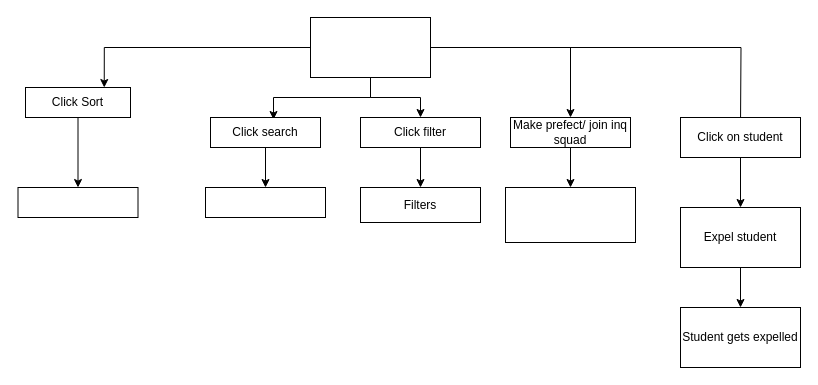
Some shapes in this 818 by 385 pixel diagram are drawn without their labels. The shapes that lost their labels are listed below. From the top down, each one's centre as x and y in pixels, then its label:
At point (370, 47): "Start".
At point (77, 202): "Sorts".
At point (265, 202): "Search".
At point (570, 214): "Student becomes prefect/ joins inq squad".
